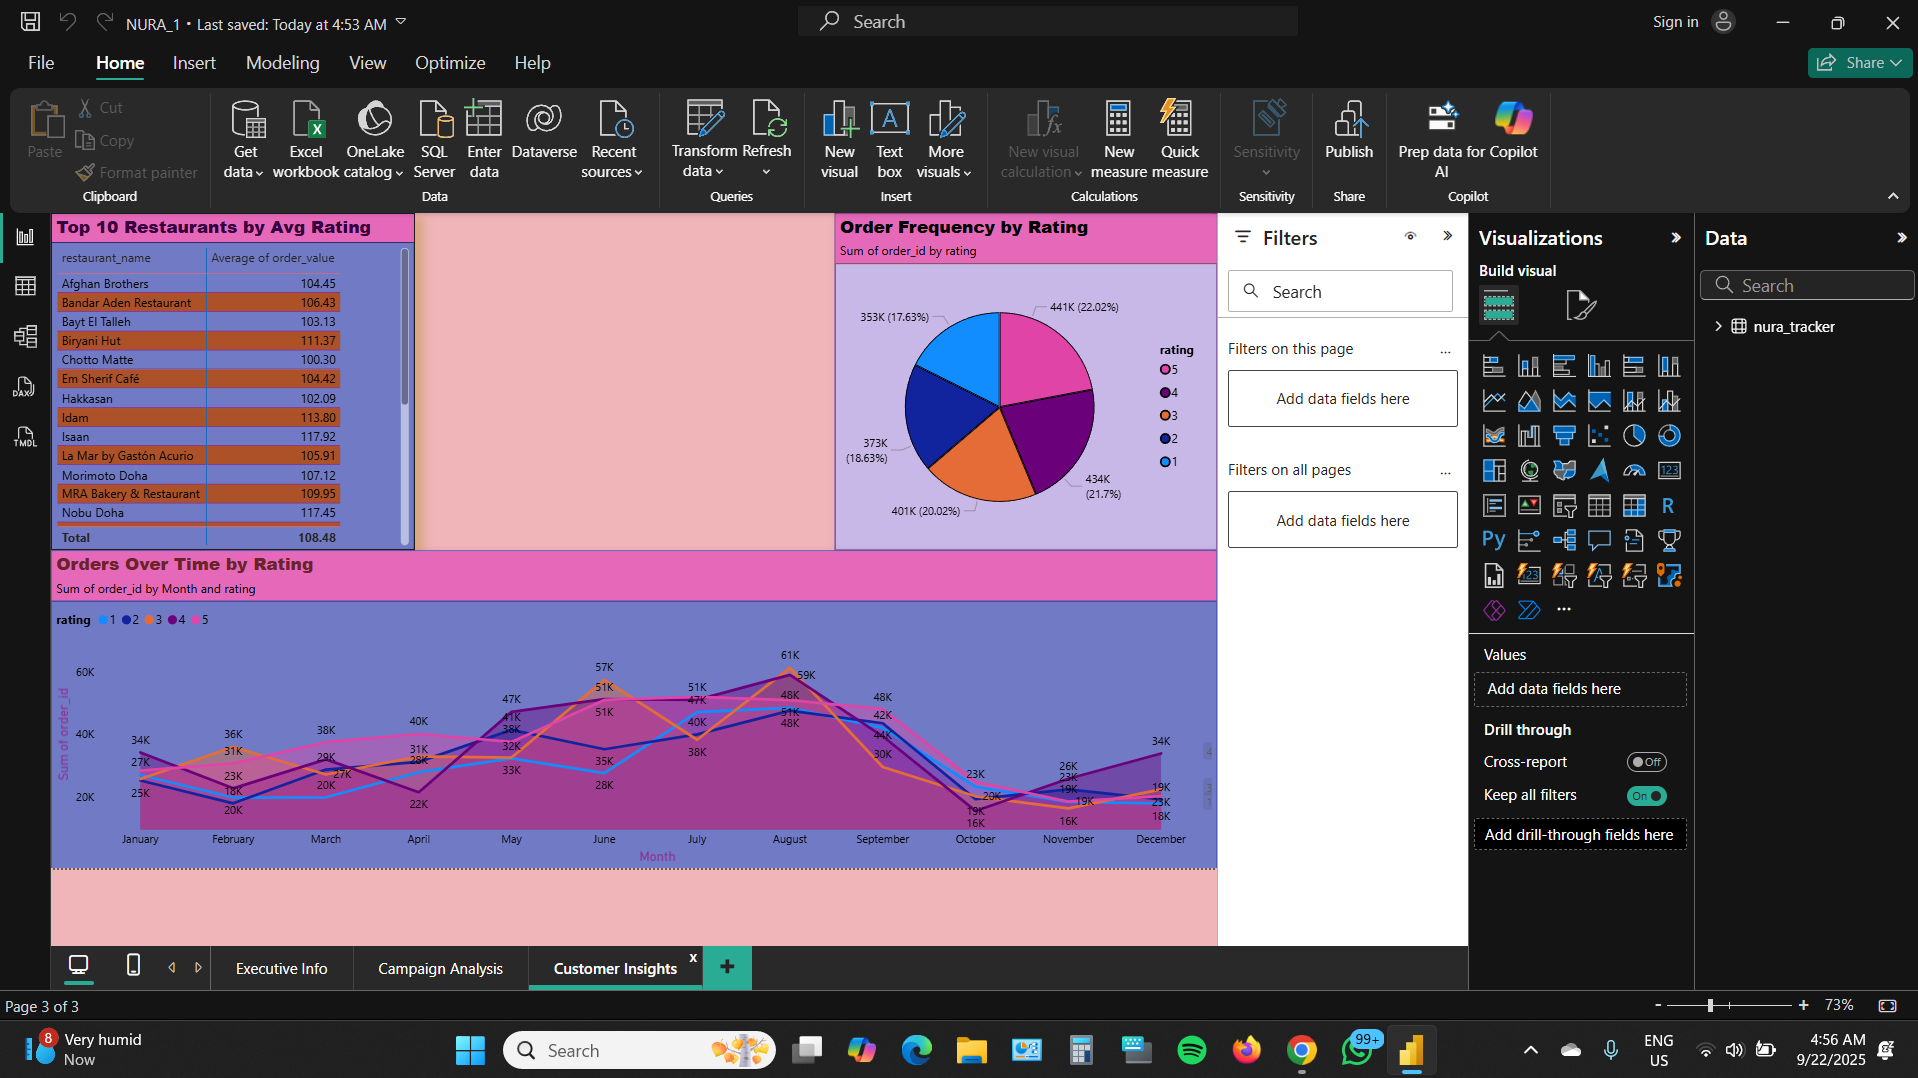

What the dashboard file says about the page in this screenshot:
{"tool":"powerbi","page":{"name":"Customer Insights","canvas":[1280,720],"ordinal":2},"visuals":[{"type":"tableEx","title":"Top 10 Restaurants by Avg Rating","fields":{"Values":["nura_tracker.restaurant_name","nura_tracker.order_value"]},"box":[0,0,399.3,370.5],"z":0},{"type":"pieChart","title":"Order Frequency by Rating","fields":{"Category":["nura_tracker.rating"],"Y":["nura_tracker.order_id"]},"box":[860.4,0,419.9,370.5],"z":1},{"type":"lineChart","title":"Orders Over Time by Rating","fields":{"Category":["nura_tracker.order_date.Variation.Date Hierarchy.Month"],"Y":["nura_tracker.order_id"],"Series":["nura_tracker.rating"]},"box":[0,370.5,1280.3,349.9],"z":2}]}

Visuals, with their boxes on the page's 1280x720 design canvas (x1, y1, x2, y2). These are canvas units, not pixel positions in the 1918x1078 screenshot, which may show the page scaled, cropped or inside an application window:
"Top 10 Restaurants by Avg Rating" tableEx: x1=0, y1=0, x2=399, y2=370
"Order Frequency by Rating" pieChart: x1=860, y1=0, x2=1280, y2=370
"Orders Over Time by Rating" lineChart: x1=0, y1=370, x2=1280, y2=720
